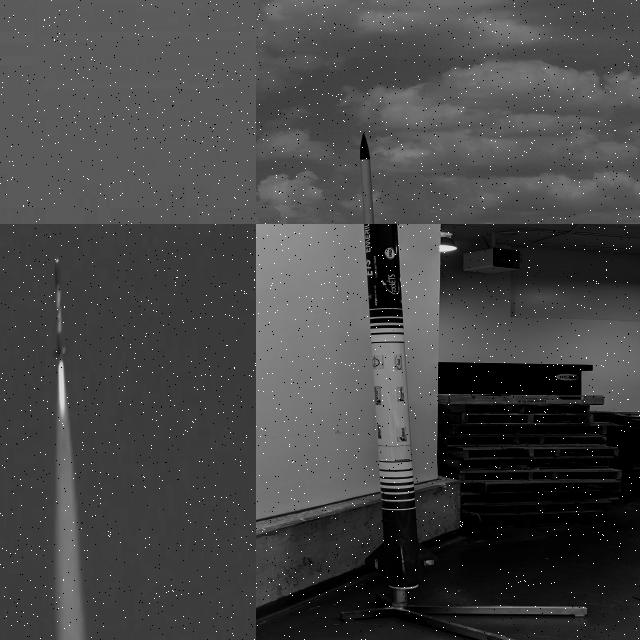Rocket: (364, 224, 439, 590), (359, 132, 385, 224), (53, 258, 67, 366)
